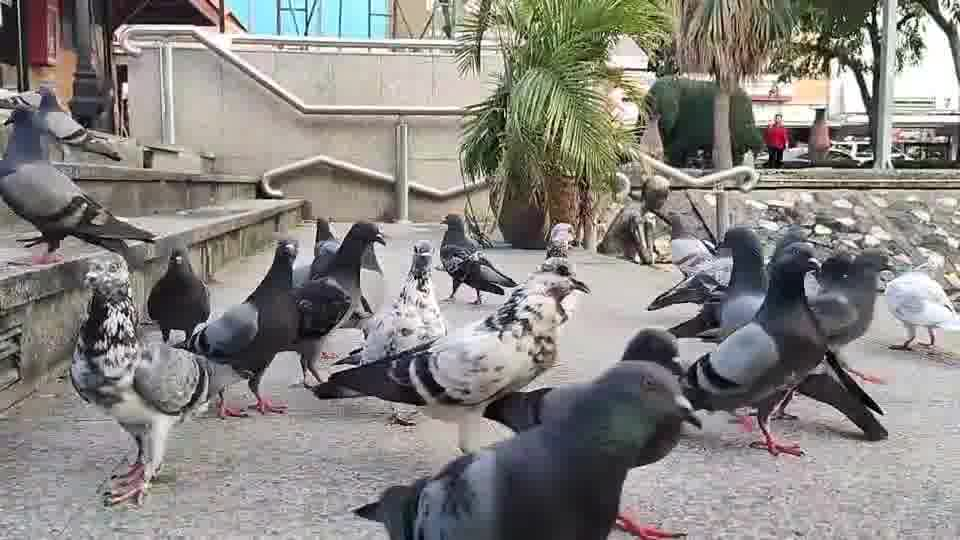Pigeon: (352, 358, 702, 539), (311, 268, 591, 456), (679, 243, 888, 457), (68, 256, 211, 507), (0, 89, 158, 263), (185, 238, 301, 419), (308, 220, 386, 325), (437, 212, 519, 304), (145, 245, 211, 345), (884, 270, 956, 351)
